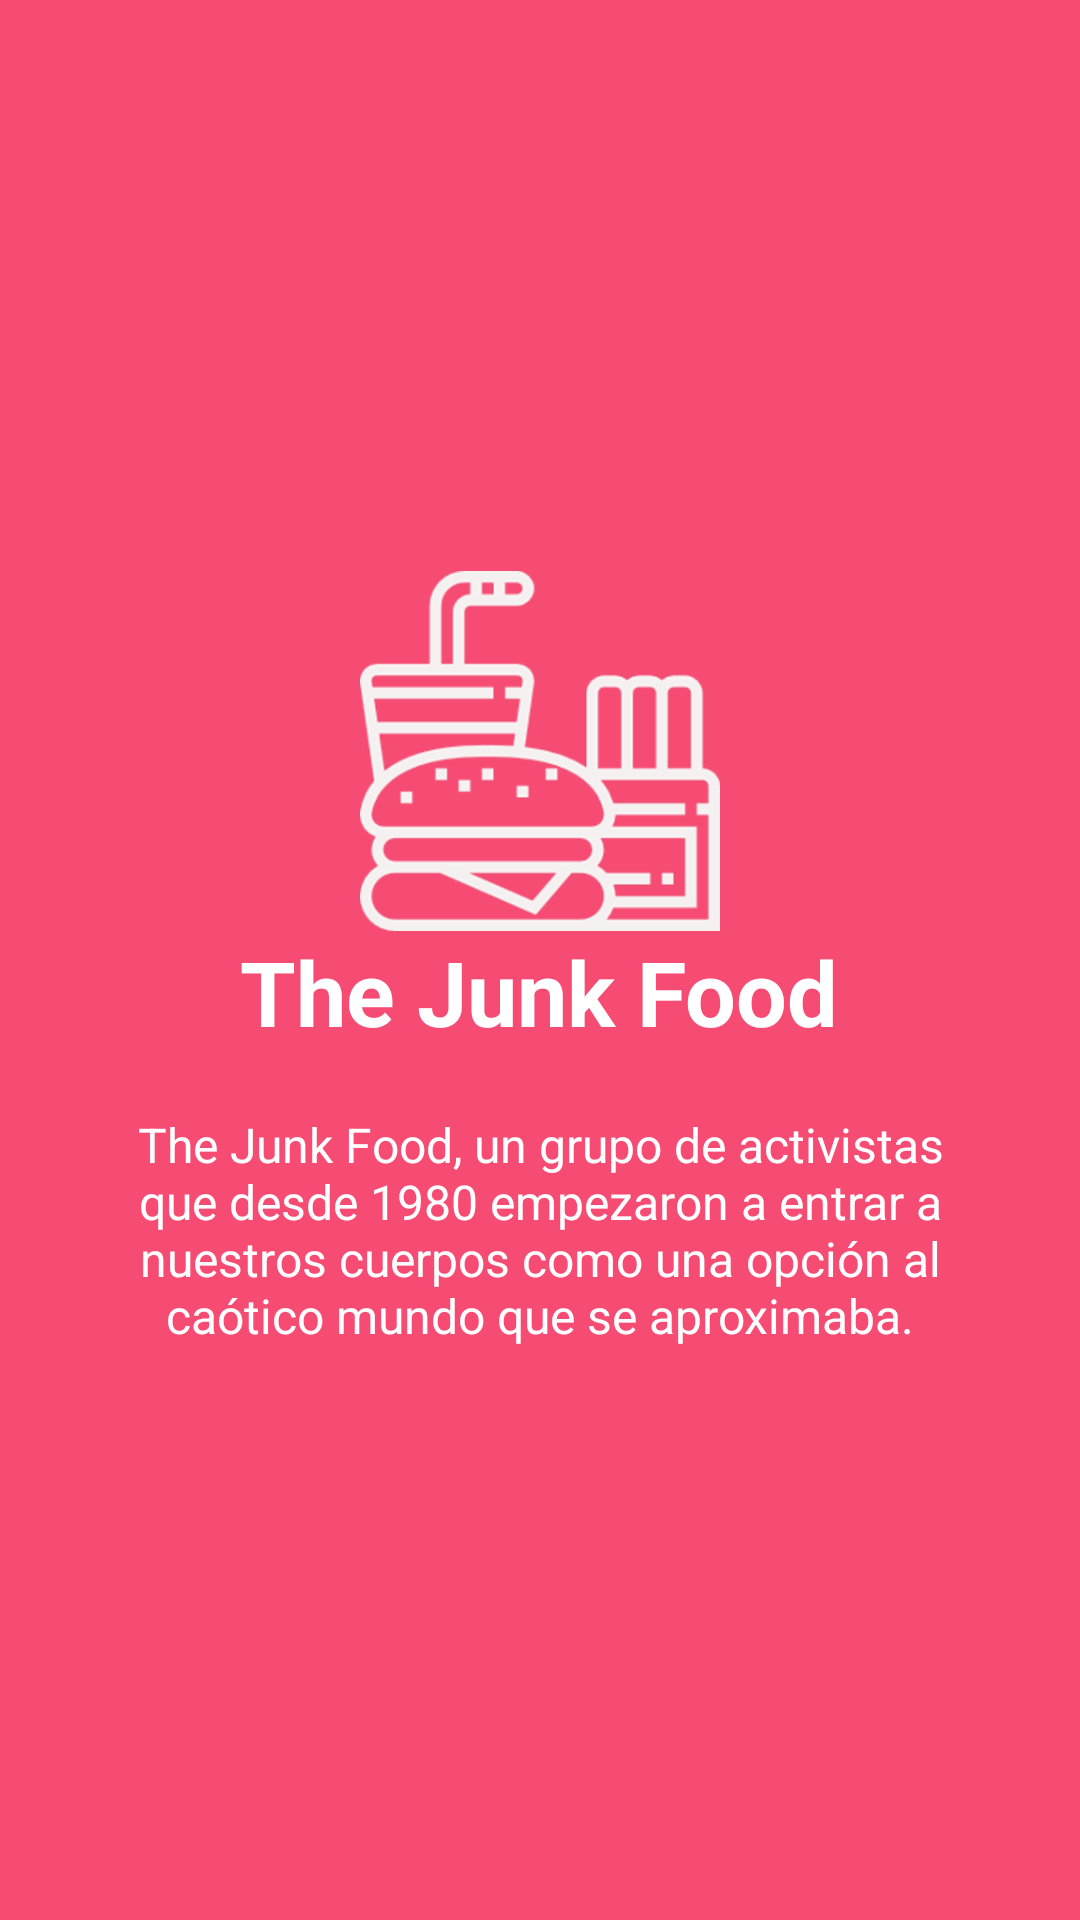

Icon click points for this 1080 × 1920 phone screenshot, format (x=x, y=y):
pack familiar: (x=540, y=751)
